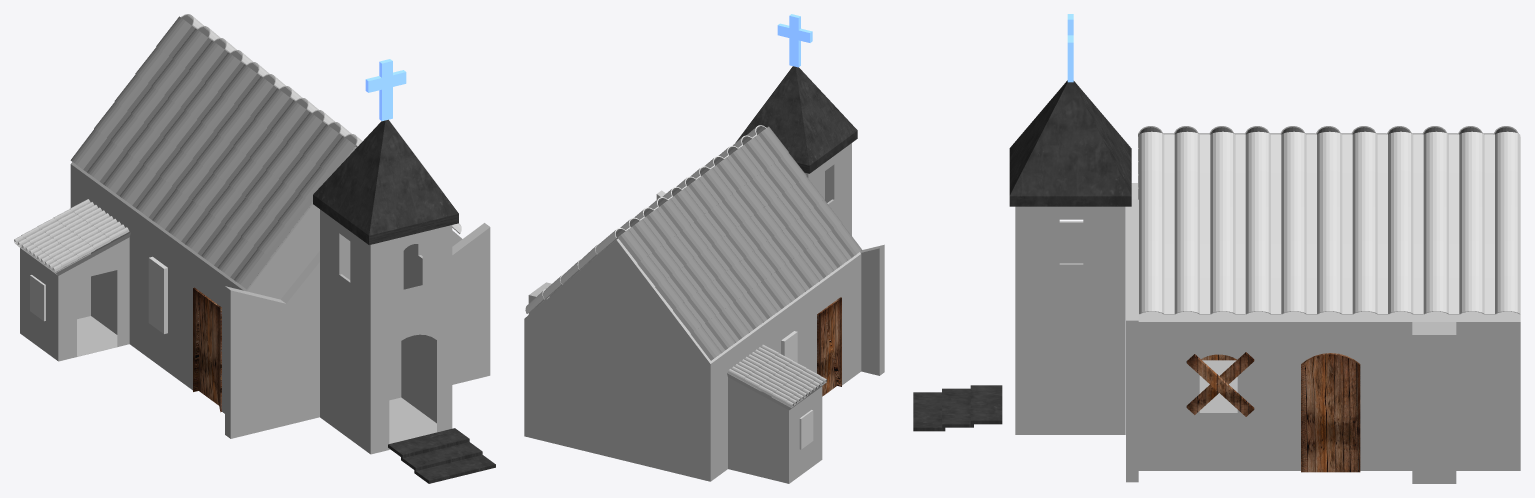
The model's file is capela1.fbx.
3 renders of one model, left to right at view 1: azimuth 30°, elevation 25°; view 2: azimuth 150°, elevation 25°; view 3: azimuth 270°, elevation 25°, orthographic. The views are drawn at different scales.
Parts seen in each view (by area): view 1: Base2, Telha, Base1, Plane.005, Telha.002, Escada, Porta2, Telha.001, Janela.001, Cruz, Plane.004, Janela; view 2: Base2, Telha, Plane.005, Telha.002, Telha.001, Base1, Porta2, Plane.004, Cruz, Janela, Janela.001; view 3: Telha.001, Base2, Base1, Plane.005, Porta3, Plane.004, Escada, Telha, MadeiraX.000, MadeiraX.001.
Part boxes in pixels (x1,y1,x2,y2): Base2: (14, 148, 490, 438); Telha: (70, 16, 355, 289); Base1: (320, 209, 452, 454); Plane.005: (313, 119, 458, 244); Telha.002: (14, 199, 129, 272); Escada: (388, 428, 495, 483); Porta2: (193, 287, 221, 412); Telha.001: (181, 14, 461, 233); Janela.001: (148, 256, 167, 333); Cruz: (365, 59, 406, 121); Plane.004: (71, 147, 355, 291); Janela: (30, 275, 45, 321); Base2: (524, 190, 884, 483); Telha: (617, 126, 861, 360); Plane.005: (735, 66, 857, 173); Telha.002: (728, 344, 826, 407); Telha.001: (525, 125, 766, 313); Base1: (805, 143, 851, 235); Porta2: (817, 297, 841, 396); Plane.004: (616, 238, 860, 363); Cruz: (777, 14, 812, 67); Janela: (799, 410, 813, 449); Janela.001: (781, 331, 797, 362); Telha.001: (1139, 131, 1520, 314); Base2: (1126, 183, 1520, 483); Base1: (1015, 206, 1125, 434); Plane.005: (1009, 80, 1131, 206); Porta3: (1301, 353, 1360, 472); Plane.004: (1138, 137, 1520, 321); Escada: (913, 385, 1002, 431); Telha: (1138, 126, 1518, 199); MadeiraX.000: (1186, 354, 1254, 416); MadeiraX.001: (1186, 352, 1254, 414).
Bounding box in the file's own units: 948 × 1041 × 1444.
